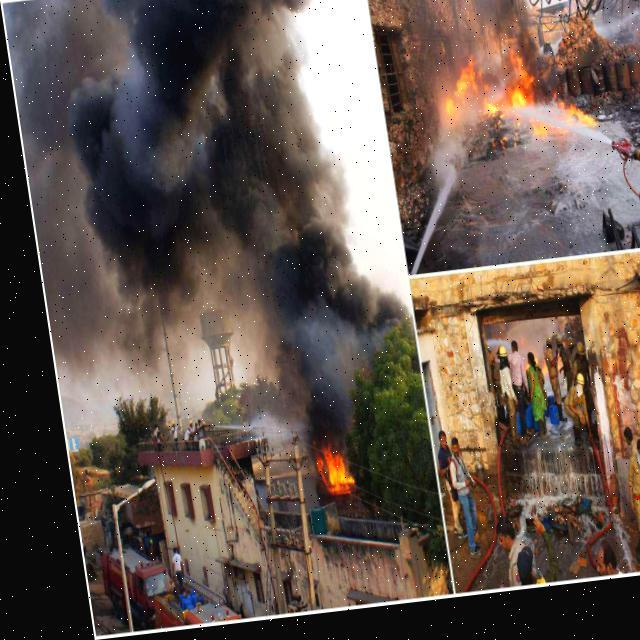Fire: (484, 48, 595, 166), (426, 52, 480, 142), (288, 436, 344, 506), (628, 297, 639, 387)
